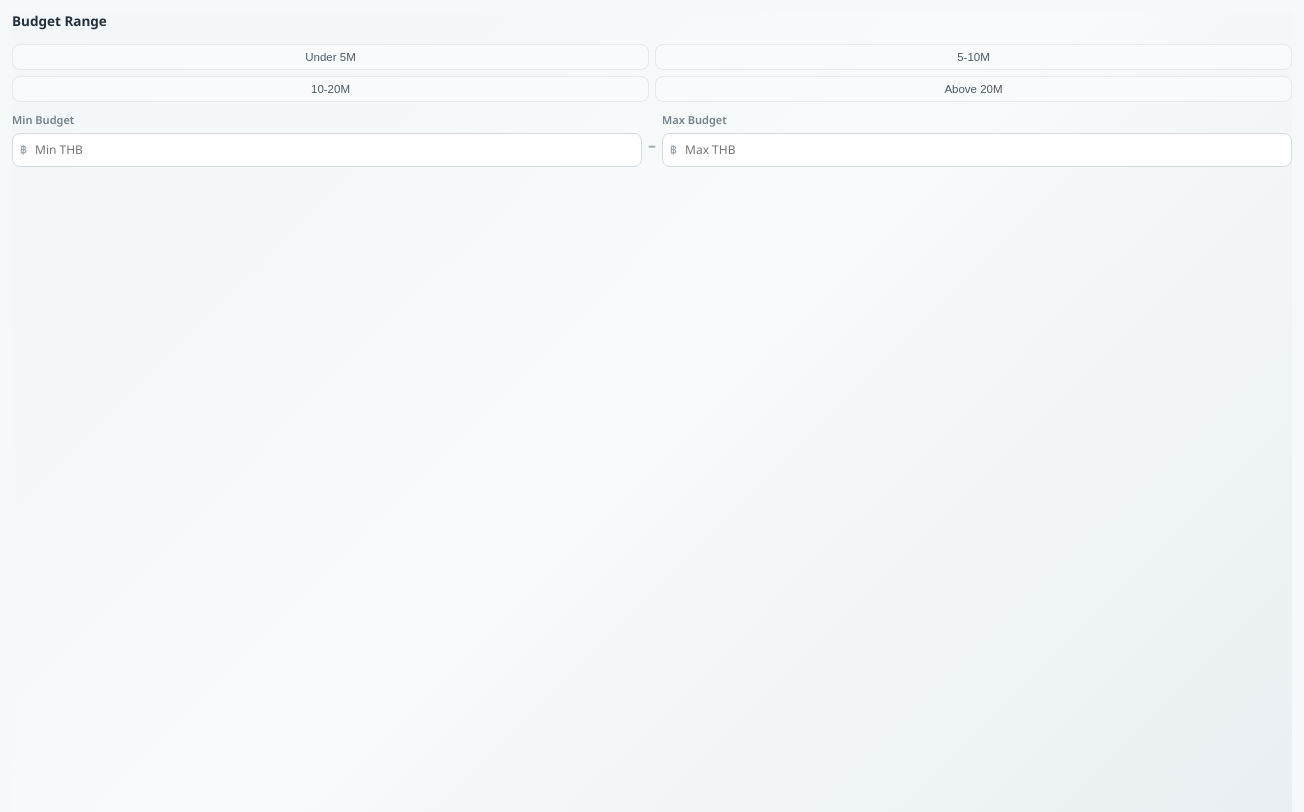
Scenario: Procurement Discovery UI Components › Issue #150: BudgetFilter Component › displays validation error when min budget exceeds max budget
The width and height of the screenshot is (1304, 812).
Type "20000000" into the field named "Min Budget". click: (327, 150)
box: [12,133,642,167]
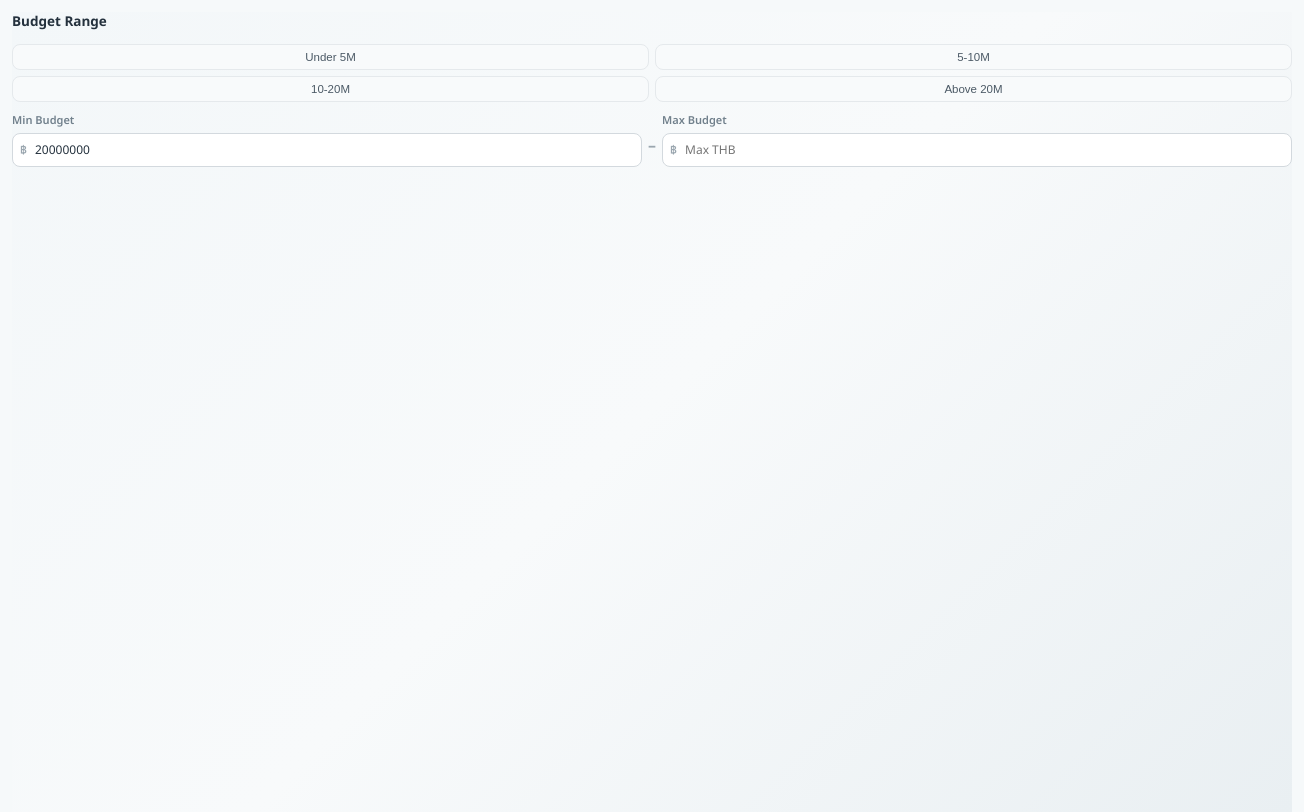
Type "5000000" into the field named "Max Budget". click: (977, 150)
box: [662,133,1292,167]
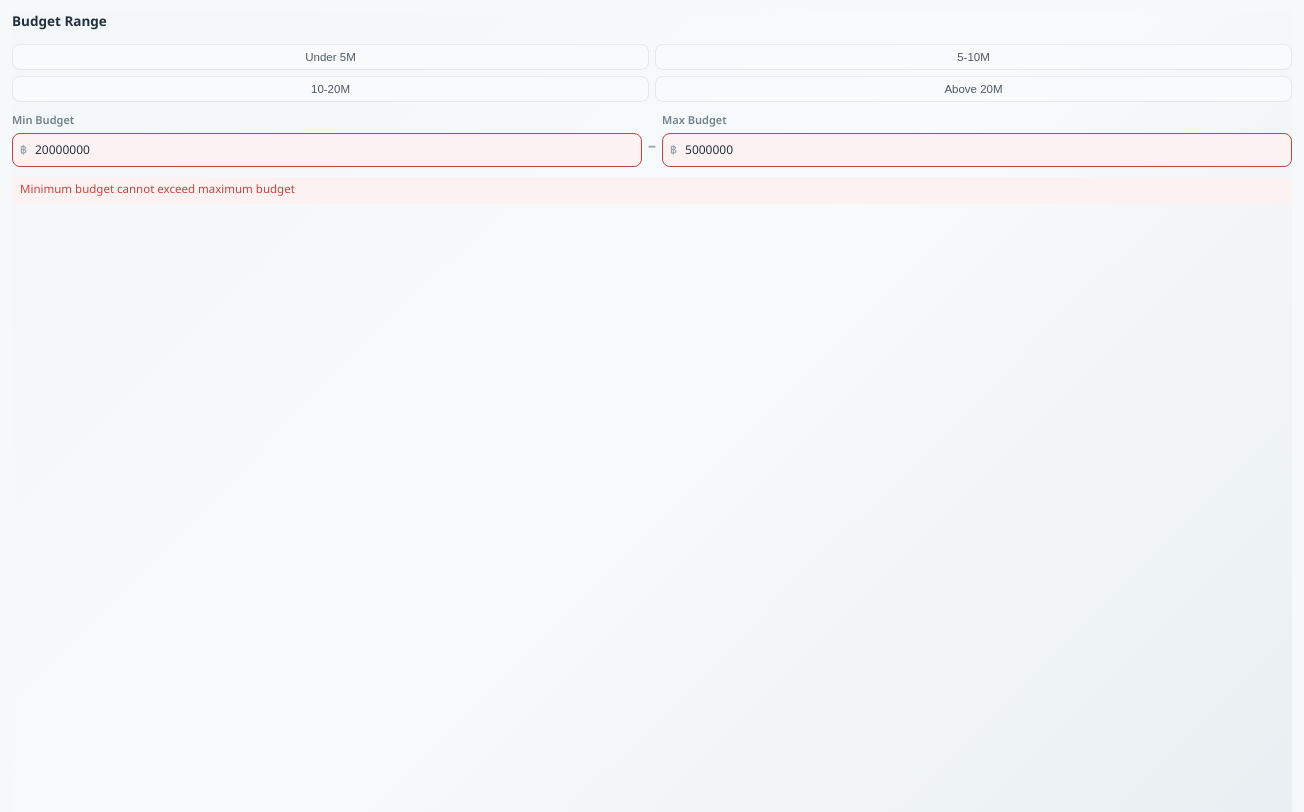
Now the message reads "Minimum budget cannot exceed maximum budget", box [20,181,295,198]
